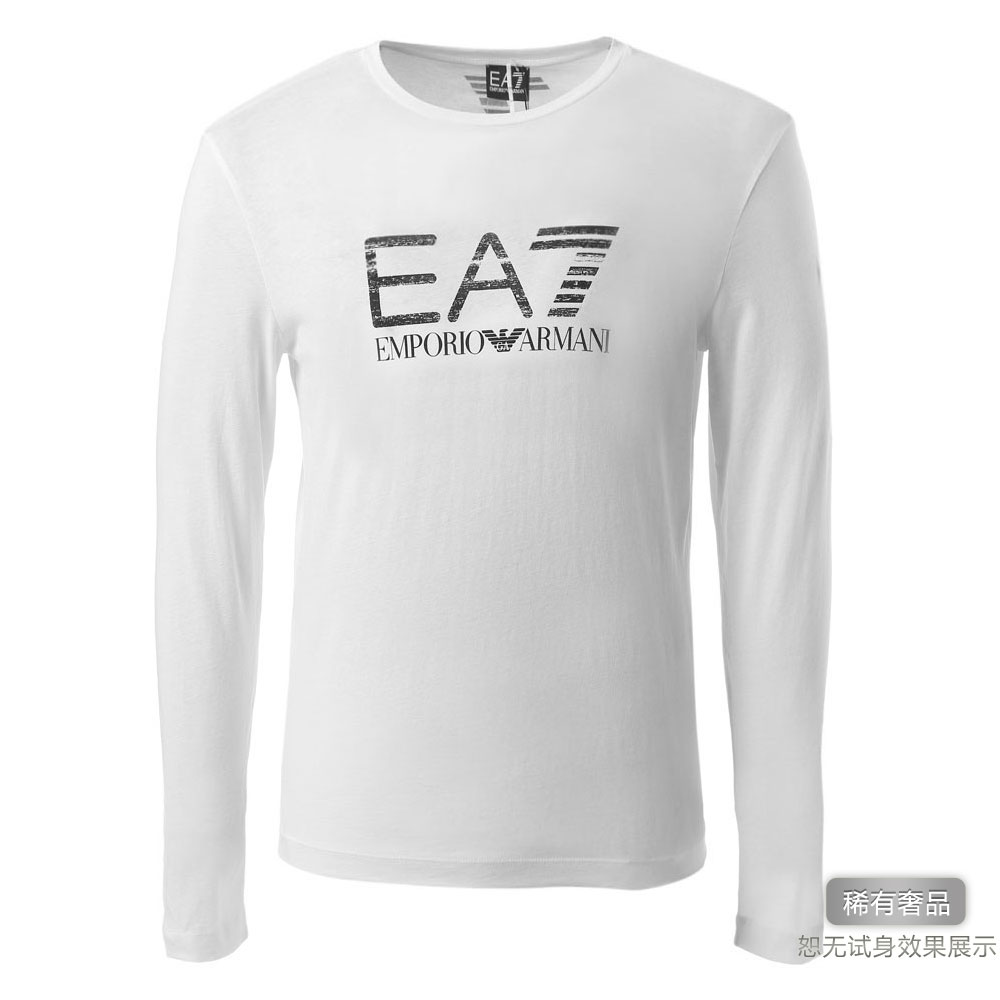flexible: (160, 42, 828, 967)
